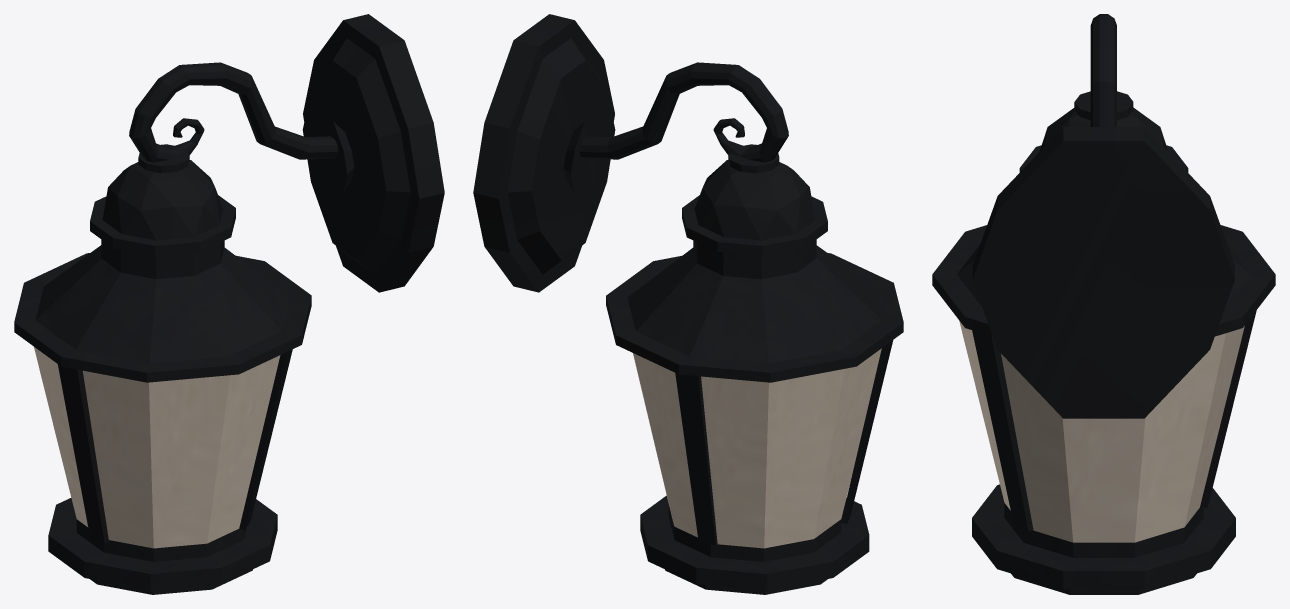
Rendered from duvar lambası.fbx.
3 views of the same model, side by side, from view 1: azimuth 30°, elevation 25°; view 2: azimuth 150°, elevation 25°; view 3: azimuth 270°, elevation 25° (orthographic). The views are drawn at different scales.
Visible parts, largest first — view 1: Icosphere; view 2: Icosphere; view 3: Icosphere.
Boxes of the visible parts, x1=… form: Icosphere: x1=14, y1=14, x2=444, y2=594; Icosphere: x1=473, y1=14, x2=903, y2=594; Icosphere: x1=932, y1=14, x2=1275, y2=594.
Bounding box in the file's own units: 33.36 × 45.14 × 25.2.
Materials: 1 (1 with a texture image).
